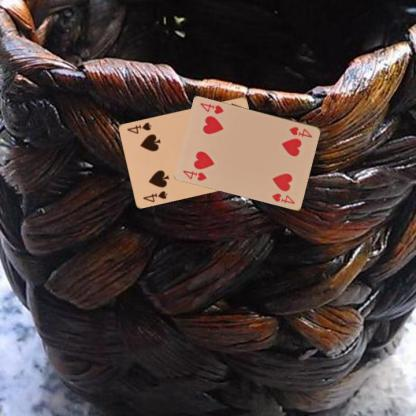4h: (286, 124, 314, 139), (180, 168, 208, 182)
4s: (141, 188, 169, 203)
